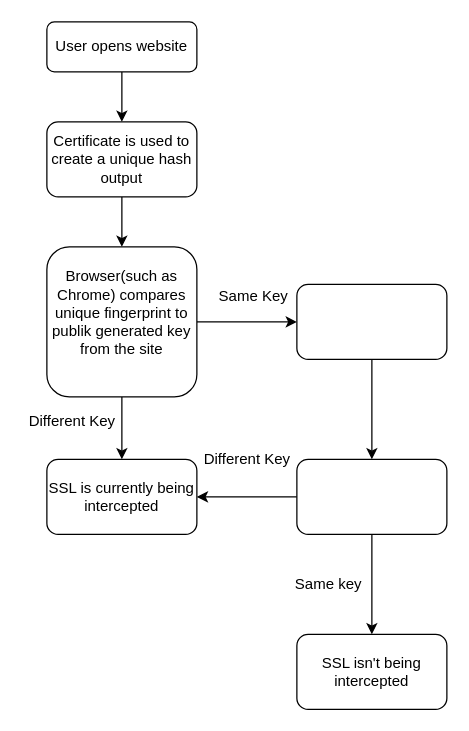
This 469x731 diagram has some shape labels left out. The shapes that lost their labels are listed below. From the top down, each one's box as (x1, y1, x2, y2) in pixels, then its label:
(296, 283, 447, 359): A private key is made using the public key
(296, 458, 447, 534): Private key that was made is compared to private key on the remote server
